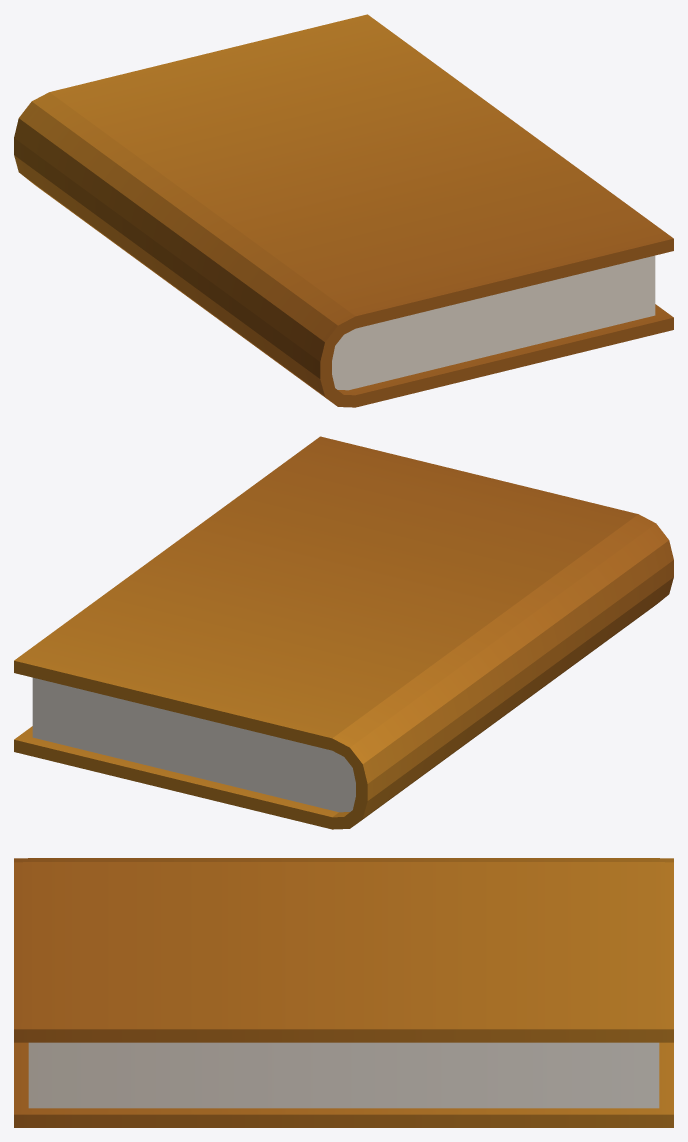
Rendered from SM_Book_04.fbx.
3 views of the same model, one above another, from view 1: azimuth 30°, elevation 25°; view 2: azimuth 150°, elevation 25°; view 3: azimuth 270°, elevation 25° (orthographic). The views are drawn at different scales.
Parts seen in each view (by area): view 1: SM_Book_04; view 2: SM_Book_04; view 3: SM_Book_04.
Boxes of the visible parts, <box> form: SM_Book_04: <box>14,14,673,407</box>; SM_Book_04: <box>14,436,673,829</box>; SM_Book_04: <box>14,858,673,1127</box>.
Size of the model in its own units: 15 by 3.7 by 22.5.
